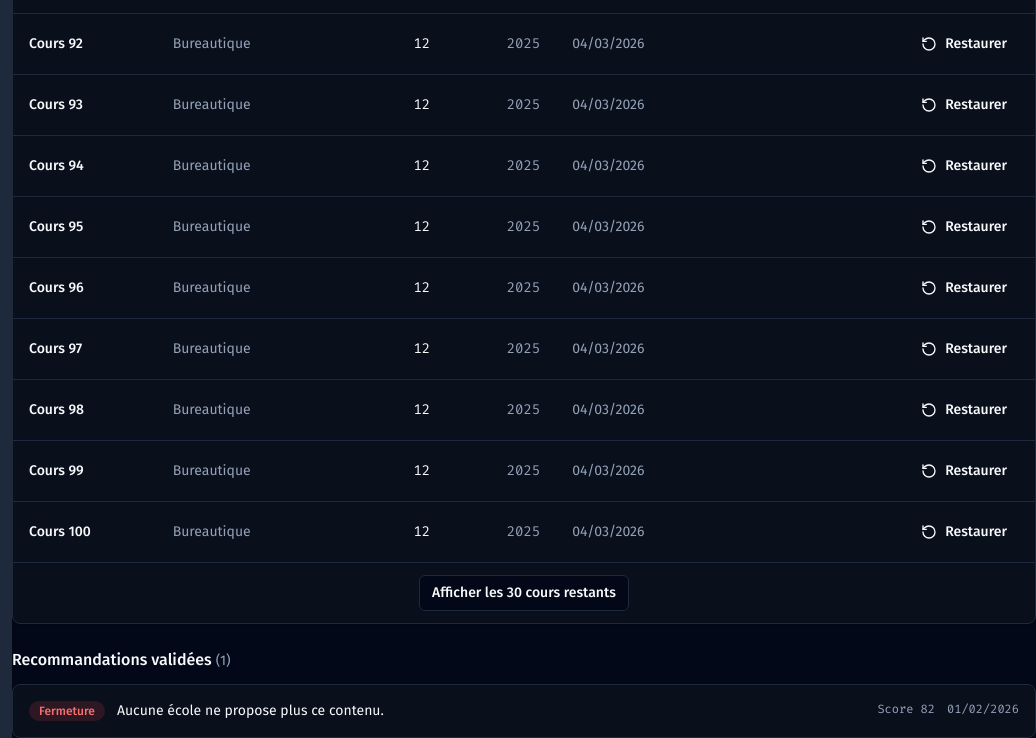
Scenario: ArchivesPage — volumétrie › ne rend que 100 lignes au départ puis déplie le reste à la demande
The width and height of the screenshot is (1036, 738).
(page scrolled)
Expected: the text "Cours 100" is shown, [13,502,157,562]
Click the button "Afficher les 30 cours restants" at (524, 593), box [419,575,629,611]
(page scrolled)
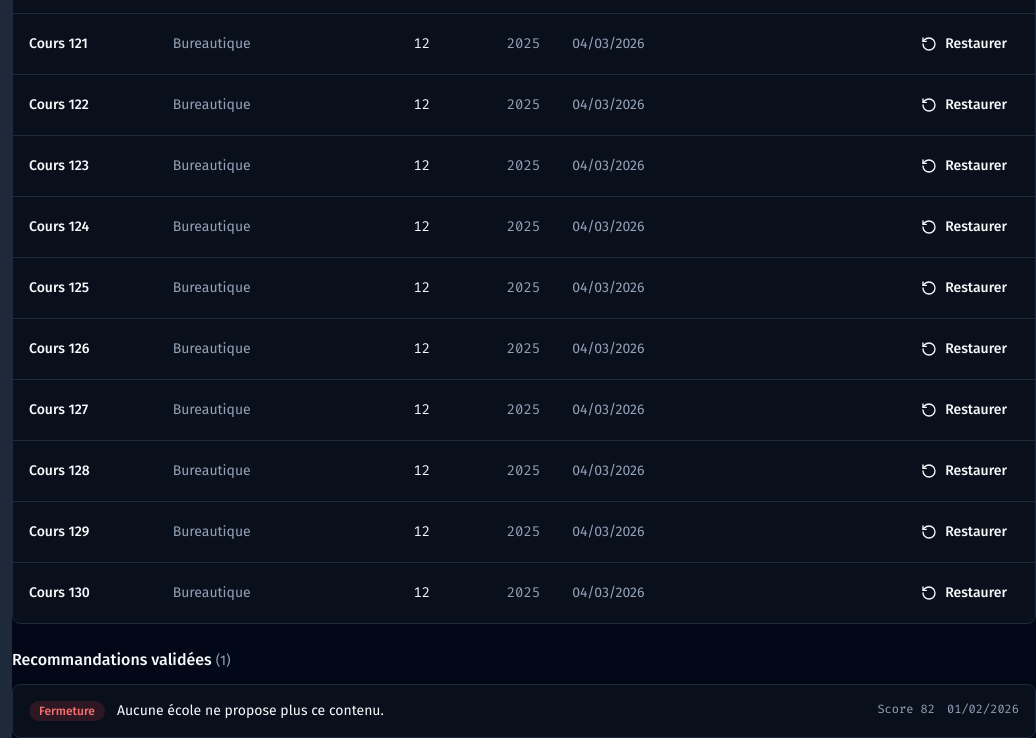
Result: the text "Cours 130" is shown at [13,562,157,623]
Result: the button "cours restants" is gone
